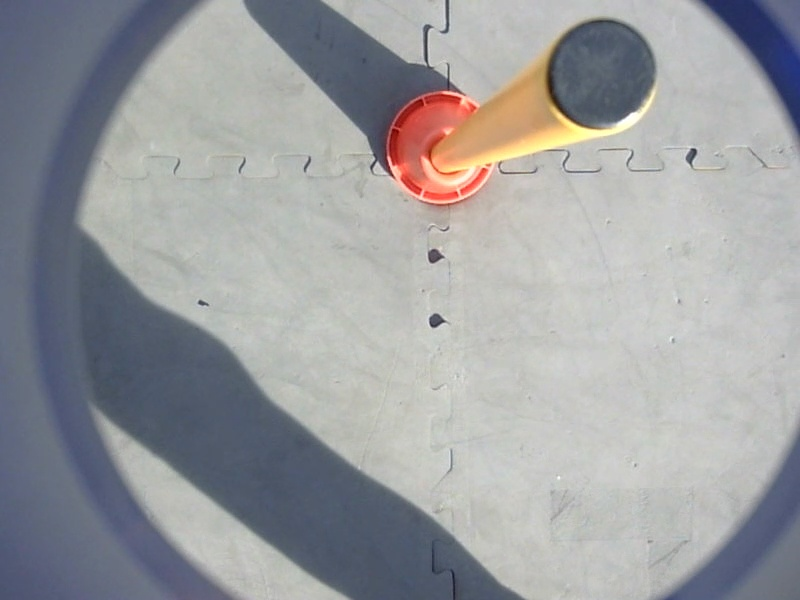tip: (534, 11, 664, 140)
